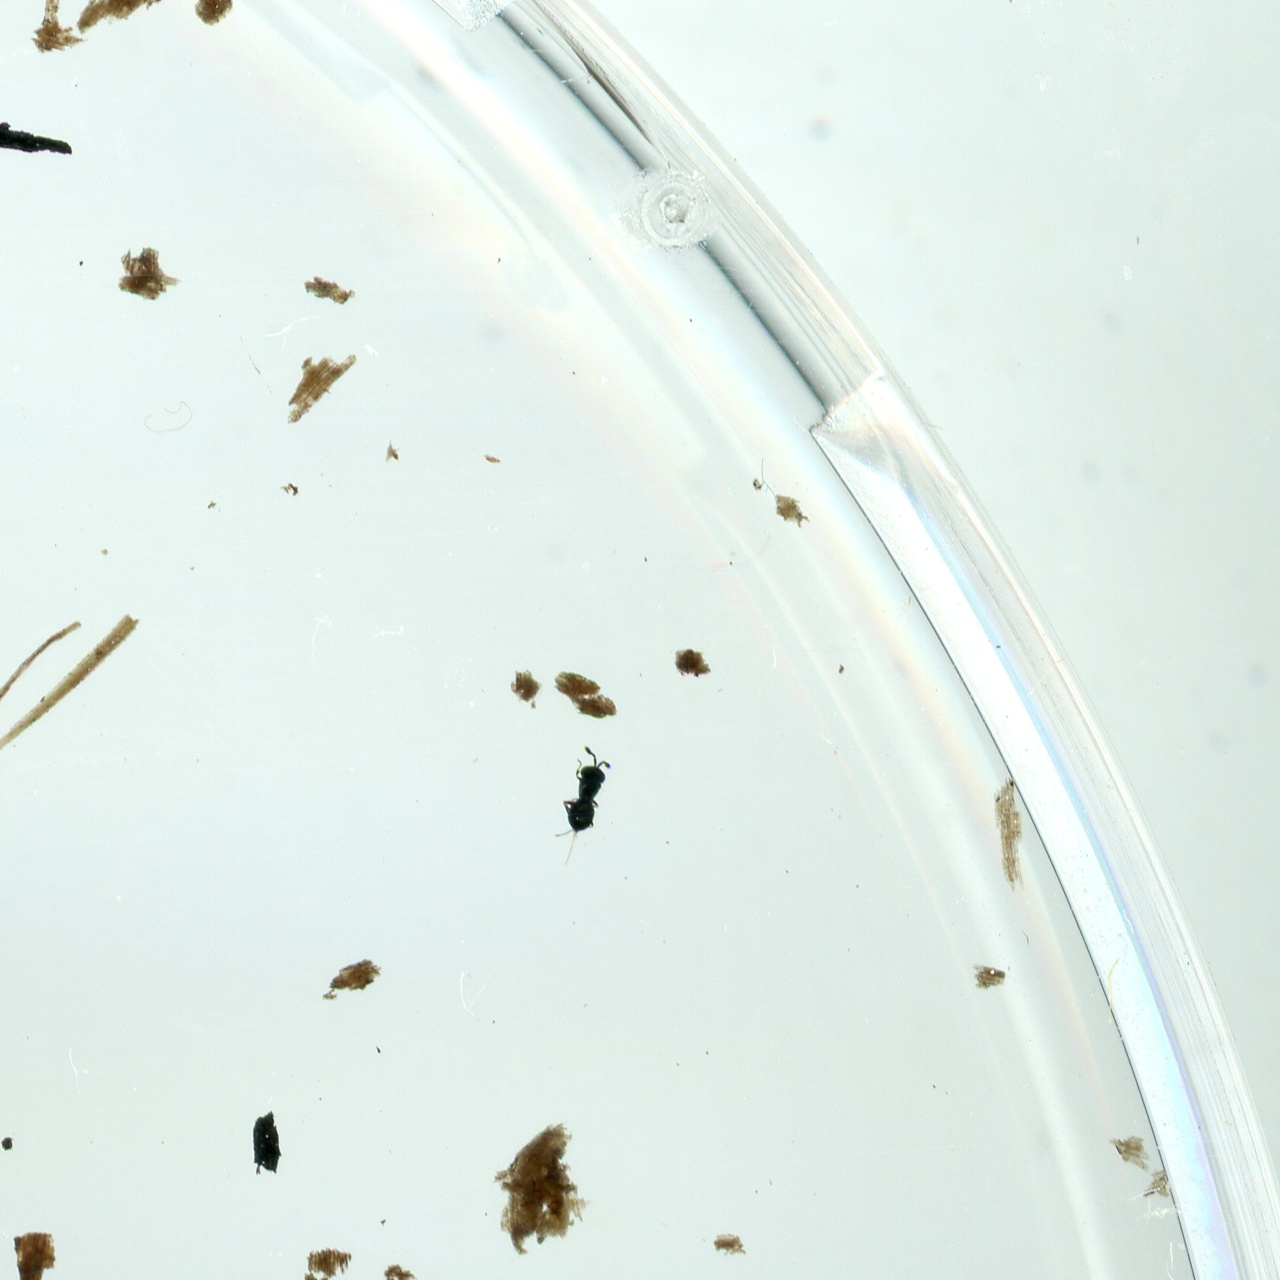arthropod: (541, 738, 625, 880)
